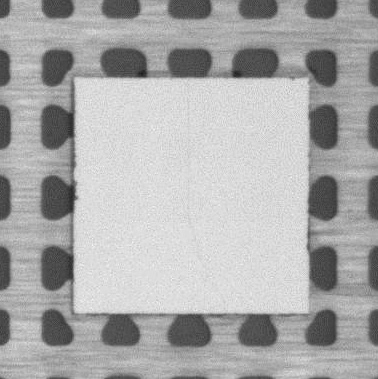DIE_CRACK: (183, 80, 233, 311)
